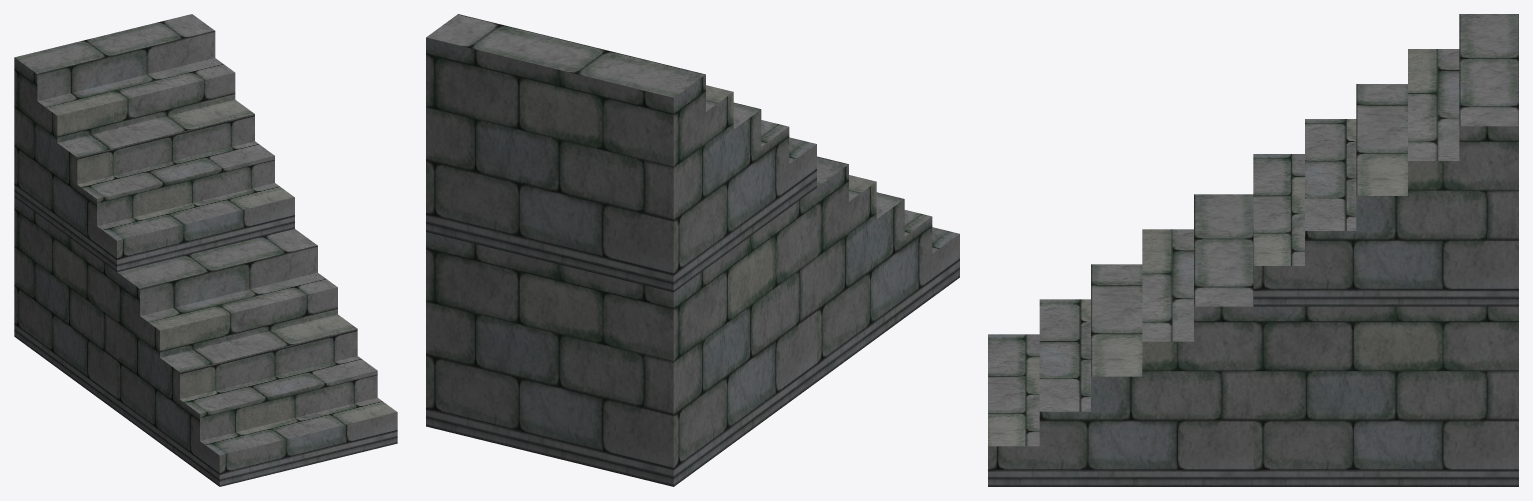
The model's file is stairs_small_01.glb.
3 renders of one model, left to right at view 1: azimuth 30°, elevation 25°; view 2: azimuth 150°, elevation 25°; view 3: azimuth 270°, elevation 25°, orthographic. The views are drawn at different scales.
Visible parts, largest first — view 1: stairs_small_01; view 2: stairs_small_01; view 3: stairs_small_01.
Boxes of the visible parts, box(x1,y1,x2,y2) form: stairs_small_01: box(14, 14, 397, 486); stairs_small_01: box(426, 14, 959, 486); stairs_small_01: box(988, 14, 1518, 486).
Size of the model in its own units: 2 by 3 by 4.
Materials: 1 (1 with a texture image).
